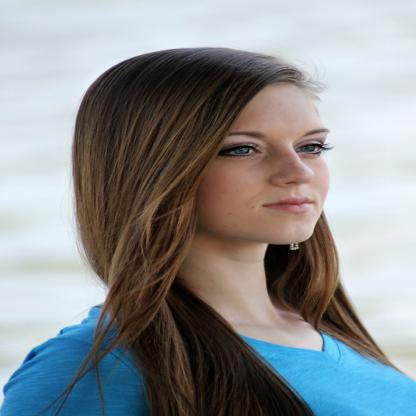Eye: (213, 141, 264, 164), (292, 139, 324, 160)
Mouth: (259, 195, 318, 214)
Nose: (268, 144, 315, 188)
